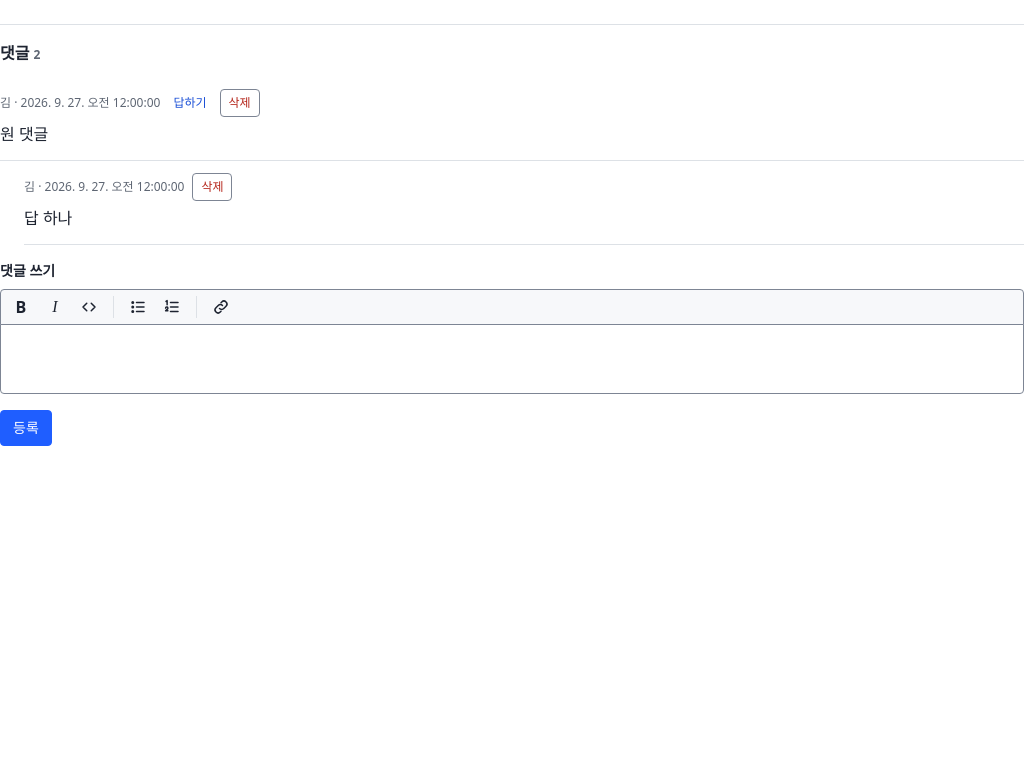
Scenario: Comments › **지우기 전에 묻는다** — 그만두면 지우지 않는다. 원 댓글이면 답도 안 보이게 된다고 말한다 (J.5.10)
Expected: the text "답 하나" is shown, top-left (24, 207), bottom-right (72, 229)
Click the 1st button "삭제" at (240, 103), box top-left (220, 89), bottom-right (260, 117)
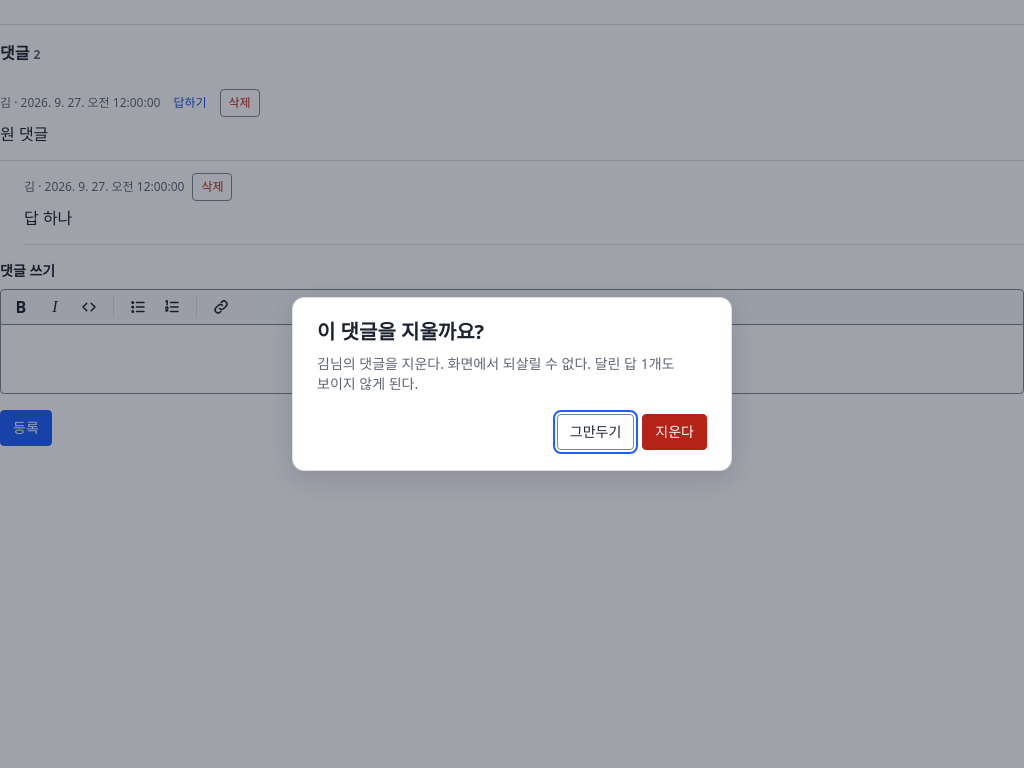
Expected: the dialog "이 댓글을 지울까요?" shows "김님의 댓글을 지운다. 화면에서 되살릴 수 없다.", top-left (292, 297), bottom-right (732, 471)
Expected: the dialog "이 댓글을 지울까요?" shows "달린 답 1개도 보이지 않게 된다.", top-left (317, 354), bottom-right (674, 393)
Click the button "그만두기" at (596, 432), box top-left (557, 414), bottom-right (634, 450)
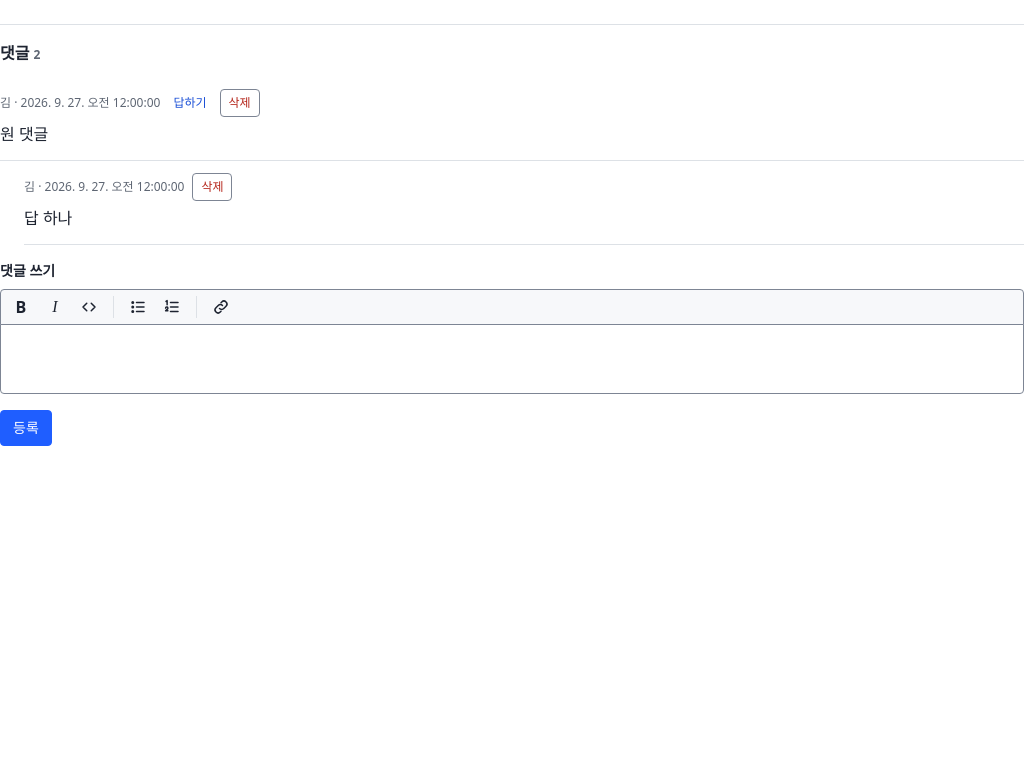
Expected: the dialog is gone
Click the 2nd button "삭제" at (212, 187), box top-left (192, 173), bottom-right (232, 201)
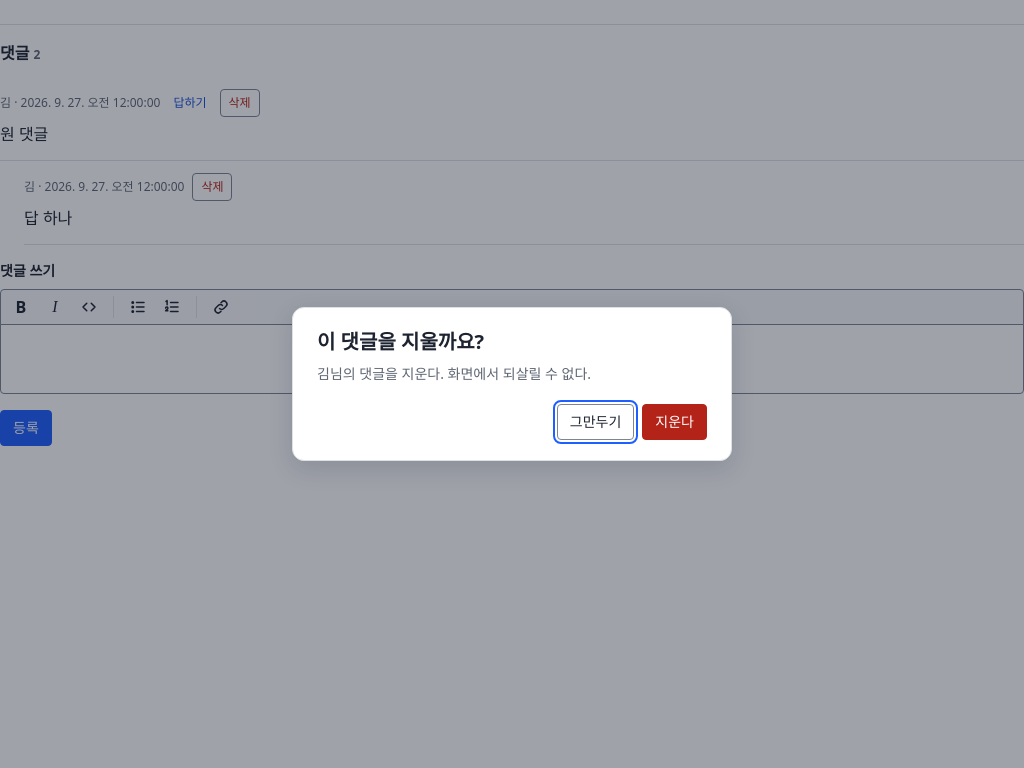
Expected: the text "달린 답" is not shown
Click the button "지운다" at (675, 422), box top-left (642, 404), bottom-right (707, 440)
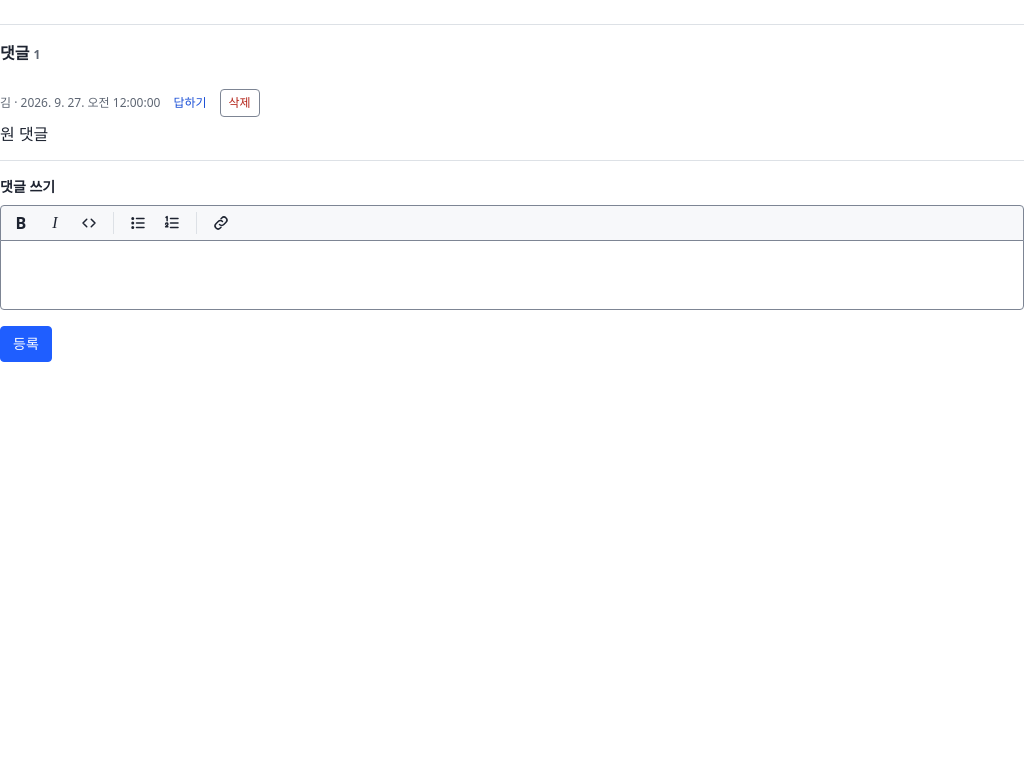
Expected: the text "답 하나" is gone
